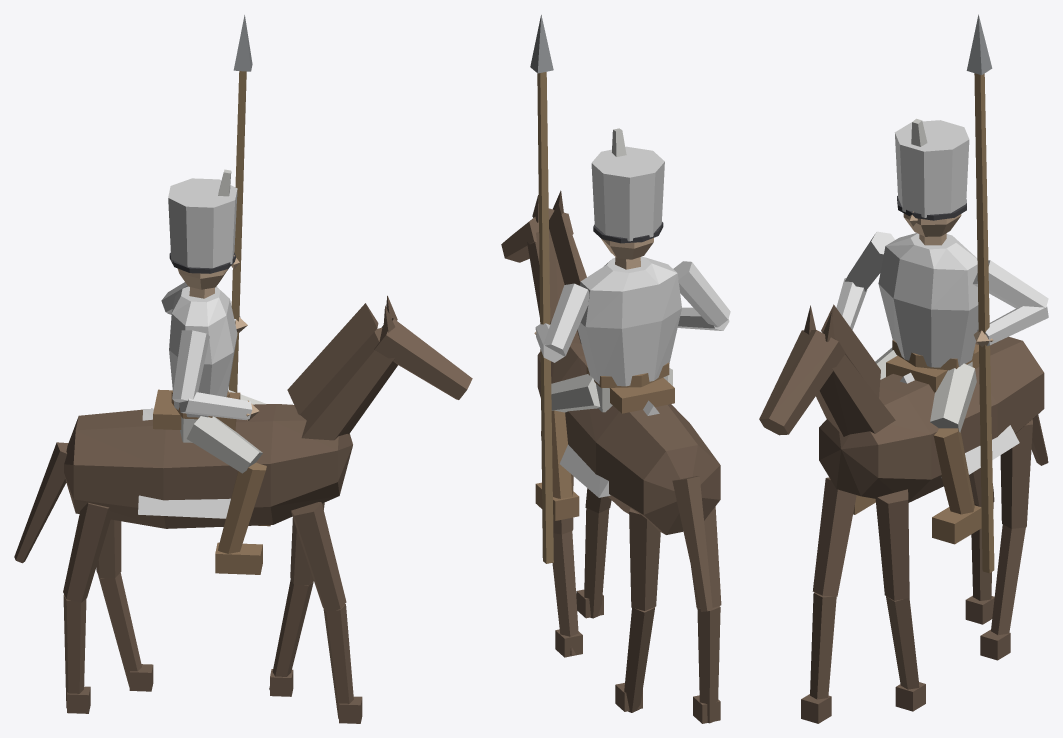
File: lancer.glb
The picture shows the model from 3 angles, left to right: view 1: azimuth 30°, elevation 25°; view 2: azimuth 150°, elevation 25°; view 3: azimuth 270°, elevation 25°; orthographic projection. The views are drawn at different scales.
Parts seen in each view (by area): view 1: LOD0; view 2: LOD0; view 3: LOD0.
Boxes of the visible parts, x1=… form: LOD0: x1=14, y1=15, x2=472, y2=723; LOD0: x1=501, y1=15, x2=730, y2=723; LOD0: x1=759, y1=14, x2=1048, y2=723.
Size of what is drawn, in the model's own units: 0.9264 by 1.75 by 0.6671.
